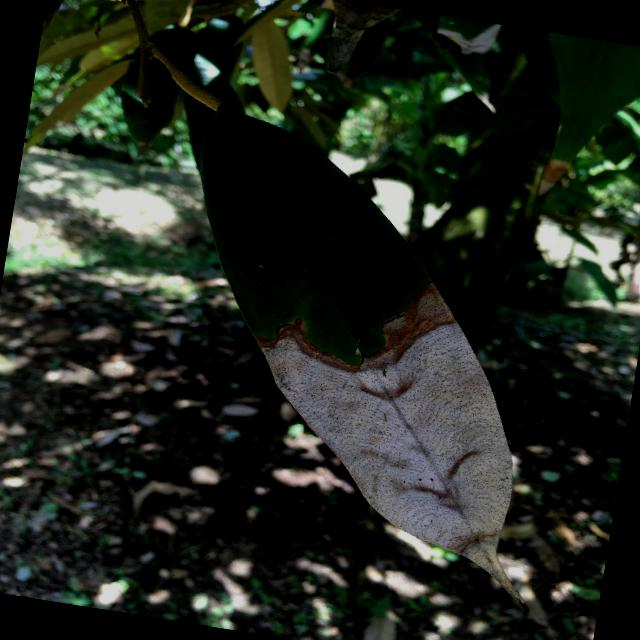Leaf Blight: (130, 98, 596, 616)
